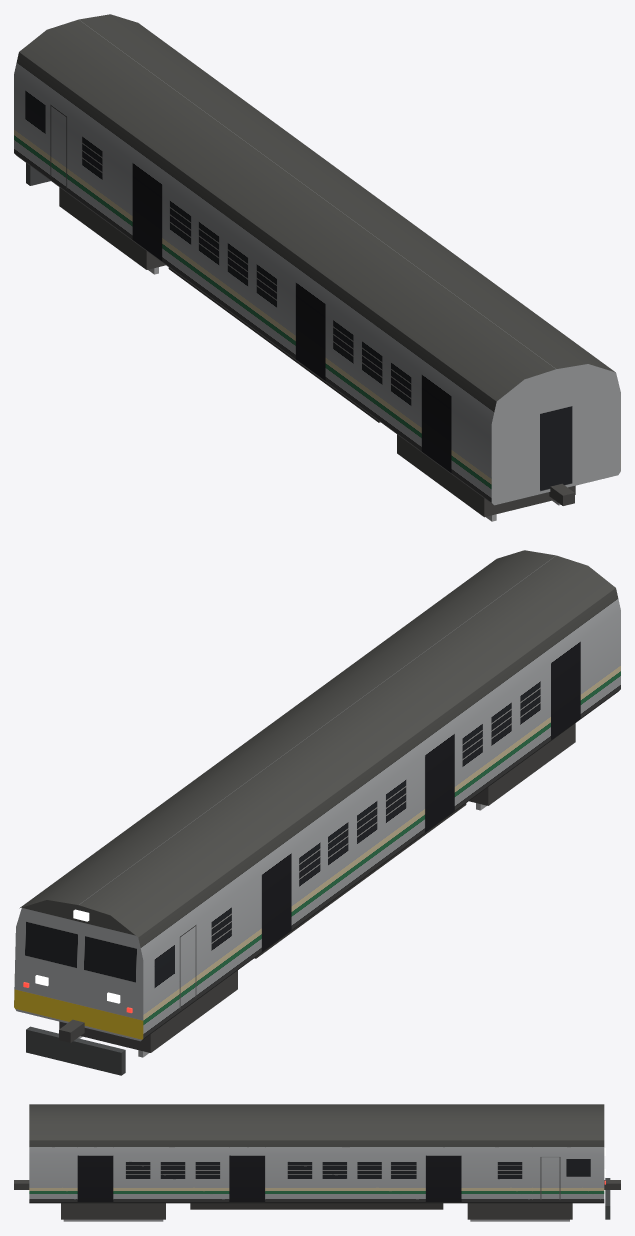
Rendered from emu_cab_lod1.glb.
3 renders of one model, top to bottom at view 1: azimuth 30°, elevation 25°; view 2: azimuth 150°, elevation 25°; view 3: azimuth 270°, elevation 25°, orthographic. The views are drawn at different scales.
Parts seen in each view (by area): view 1: body; view 2: body; view 3: body.
Part boxes in pixels (x1,y1,x2,y2): body: (14, 14, 620, 521); body: (14, 550, 620, 1075); body: (14, 1104, 620, 1221).
Bounding box in the file's own units: 3.25 × 3.96 × 21.95.
Materials: 2 (2 with a texture image).
